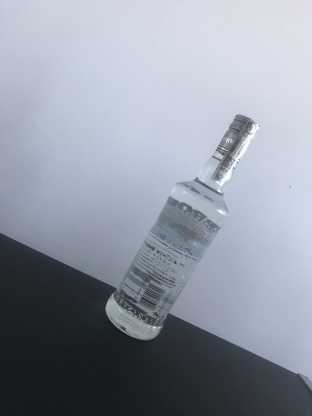nakretka: (214, 111, 261, 166)
